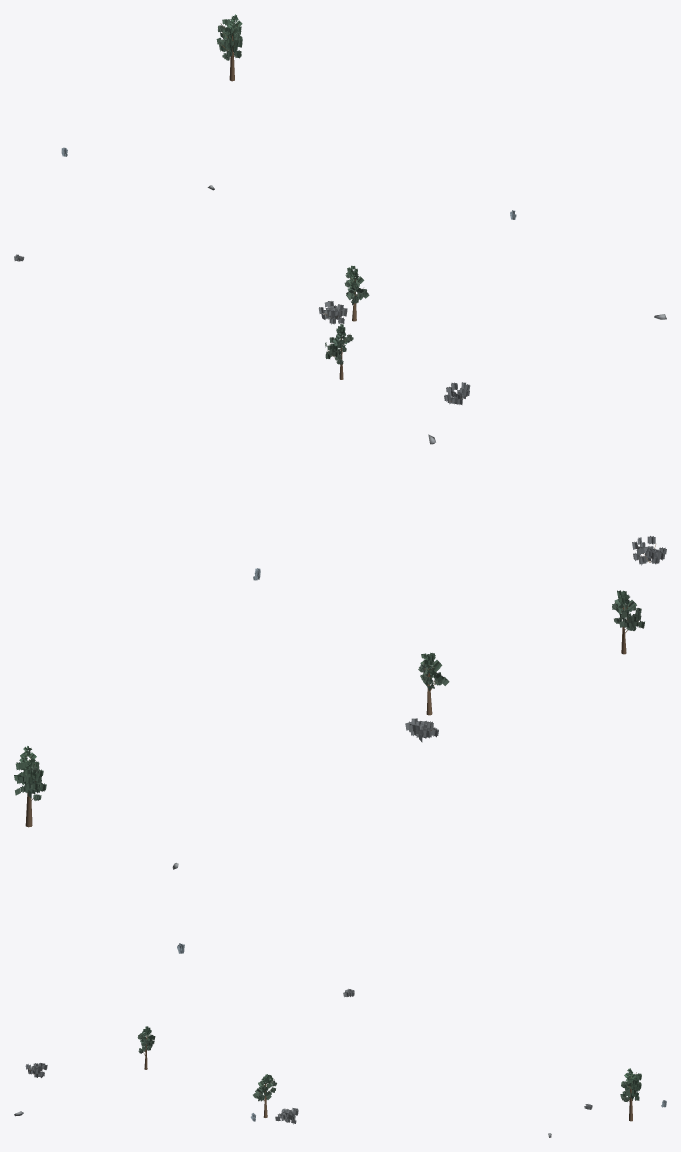
The model's file is frost_land_scatter_c11_12.glb.
3 views of the same model, one above another, from view 1: azimuth 30°, elevation 25°; view 2: azimuth 150°, elevation 25°; view 3: azimuth 270°, elevation 25° (orthographic). The views are drawn at different scales.
Visible parts, largest first — view 1: frost_land_scatter_c11_12; view 2: frost_land_scatter_c11_12; view 3: frost_land_scatter_c11_12.
Part boxes in pixels (x1,y1,x2,y2): frost_land_scatter_c11_12: (14, 14, 666, 404); frost_land_scatter_c11_12: (14, 434, 666, 997); frost_land_scatter_c11_12: (14, 1026, 666, 1137).
Bounding box in the file's own units: 46.25 × 25.24 × 111.
